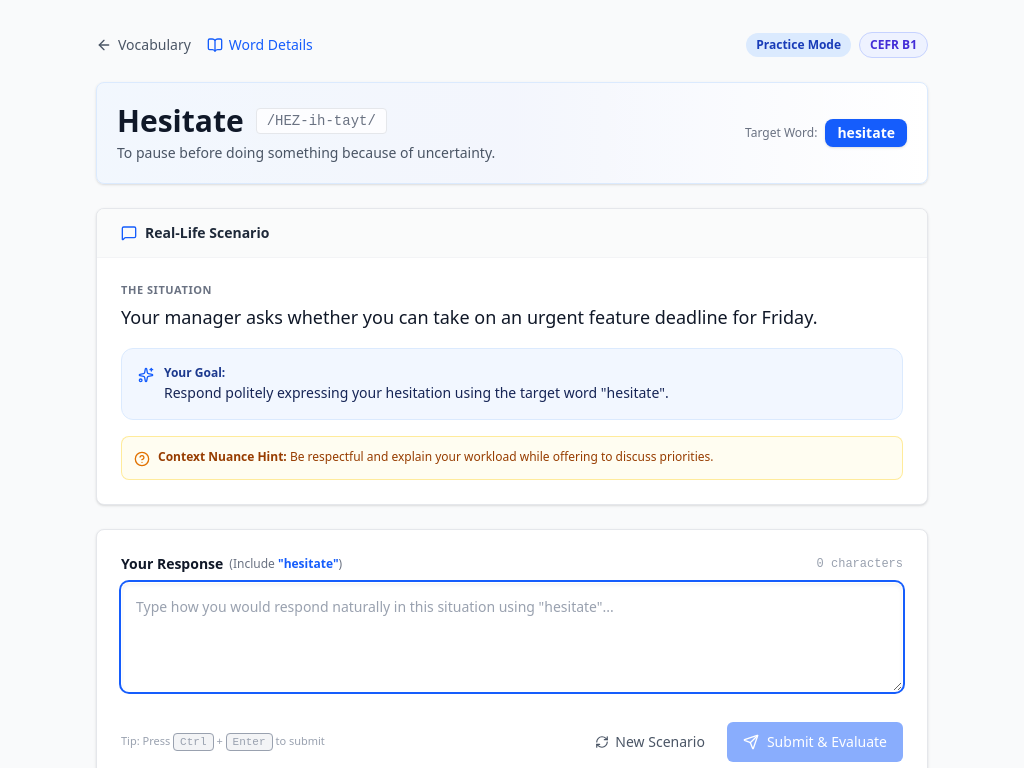
Test: PracticePage › allows retrying the current scenario
Type "I would hesitate." into the text box. click: (512,637)
box: [121,582,903,692]
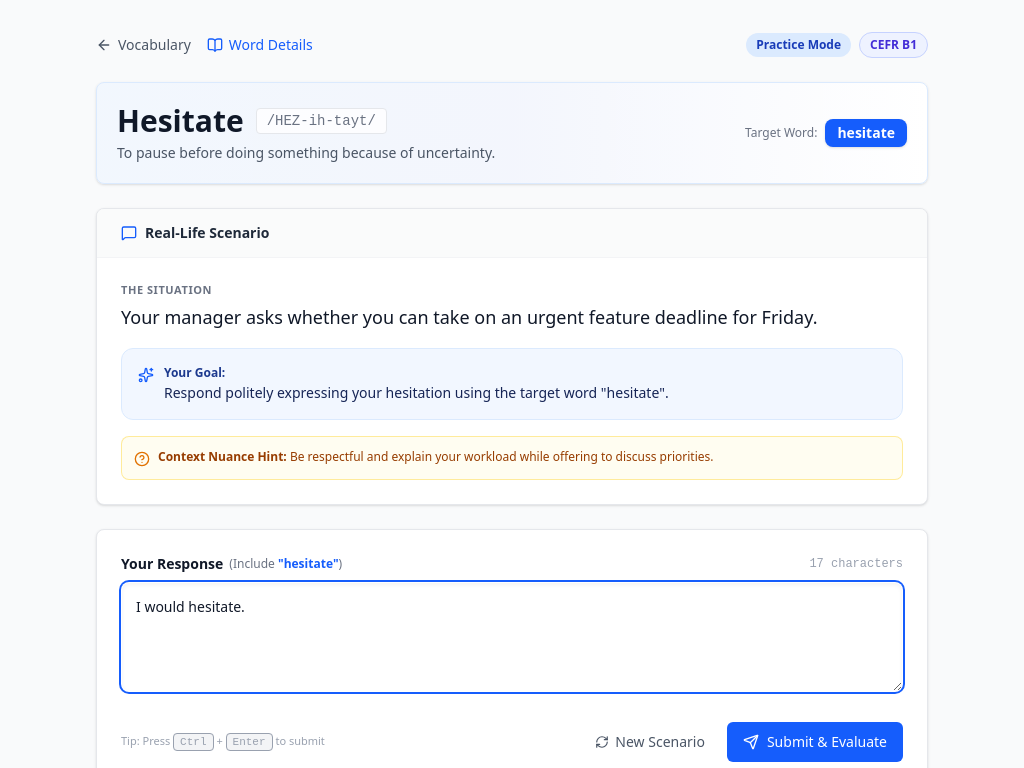
Click the button "Submit & Evaluate". click: (815,742)
box: [727,722,903,762]
(page scrolled)
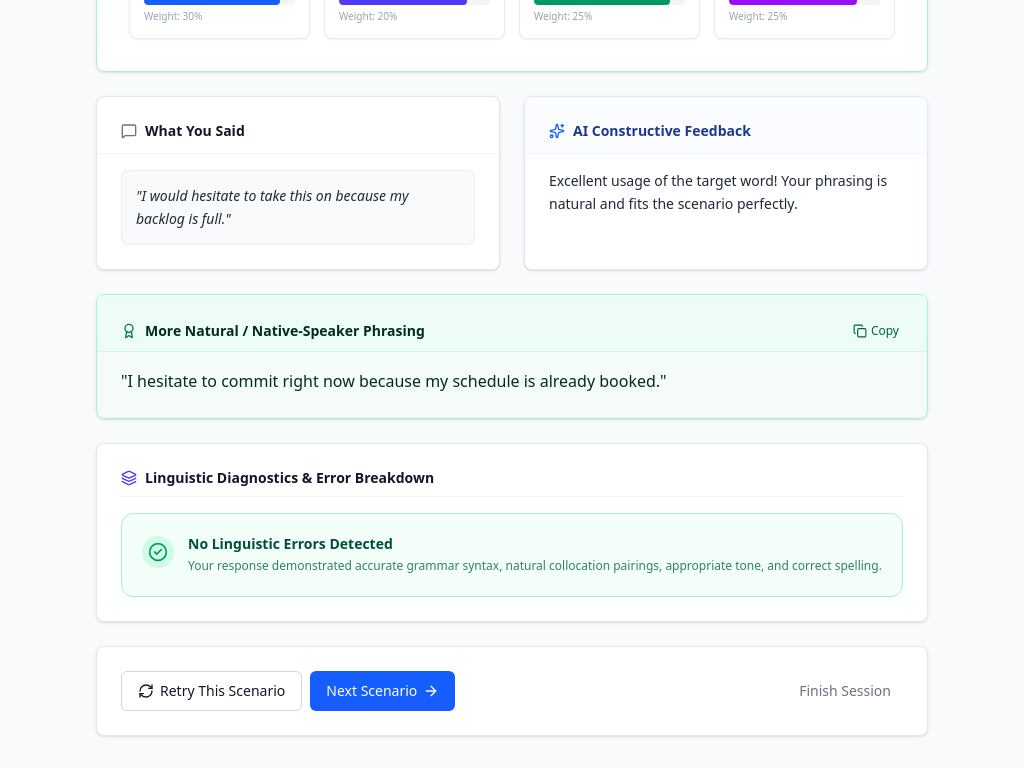
Check: the button "Retry This Scenario" is shown
Click the button "Retry This Scenario". click: (212,691)
box: [121,671,302,711]
(page scrolled)
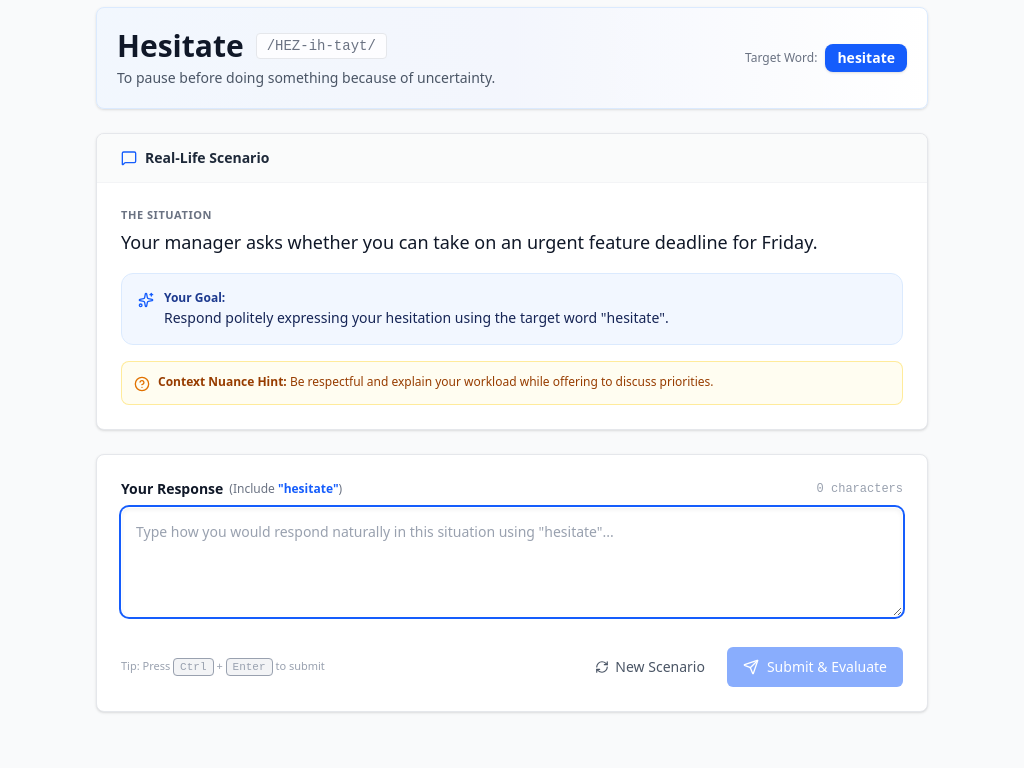
Check: the text box is shown, box [121,507,903,617]
